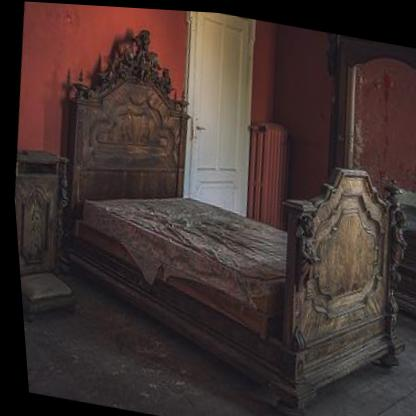Bed: (65, 28, 404, 412)
